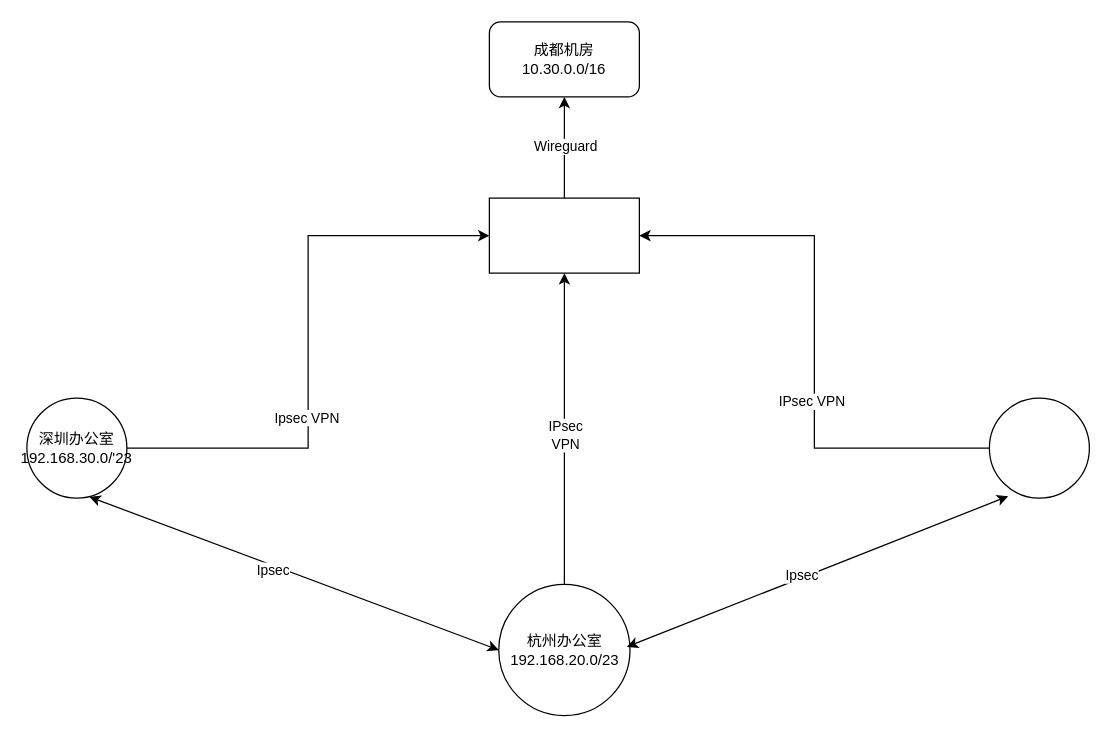
The diagram is 1115 pixels wide and 738 high, and some of its shapes have lost their labels. Here are the shapes that lost their labels. From the top down, the centre of each, then its label:
At (563,235): "阿里云杭州机房 10.10.0.0/16".
At (1038,447): "上海办公室 192.168.40.0/23".
